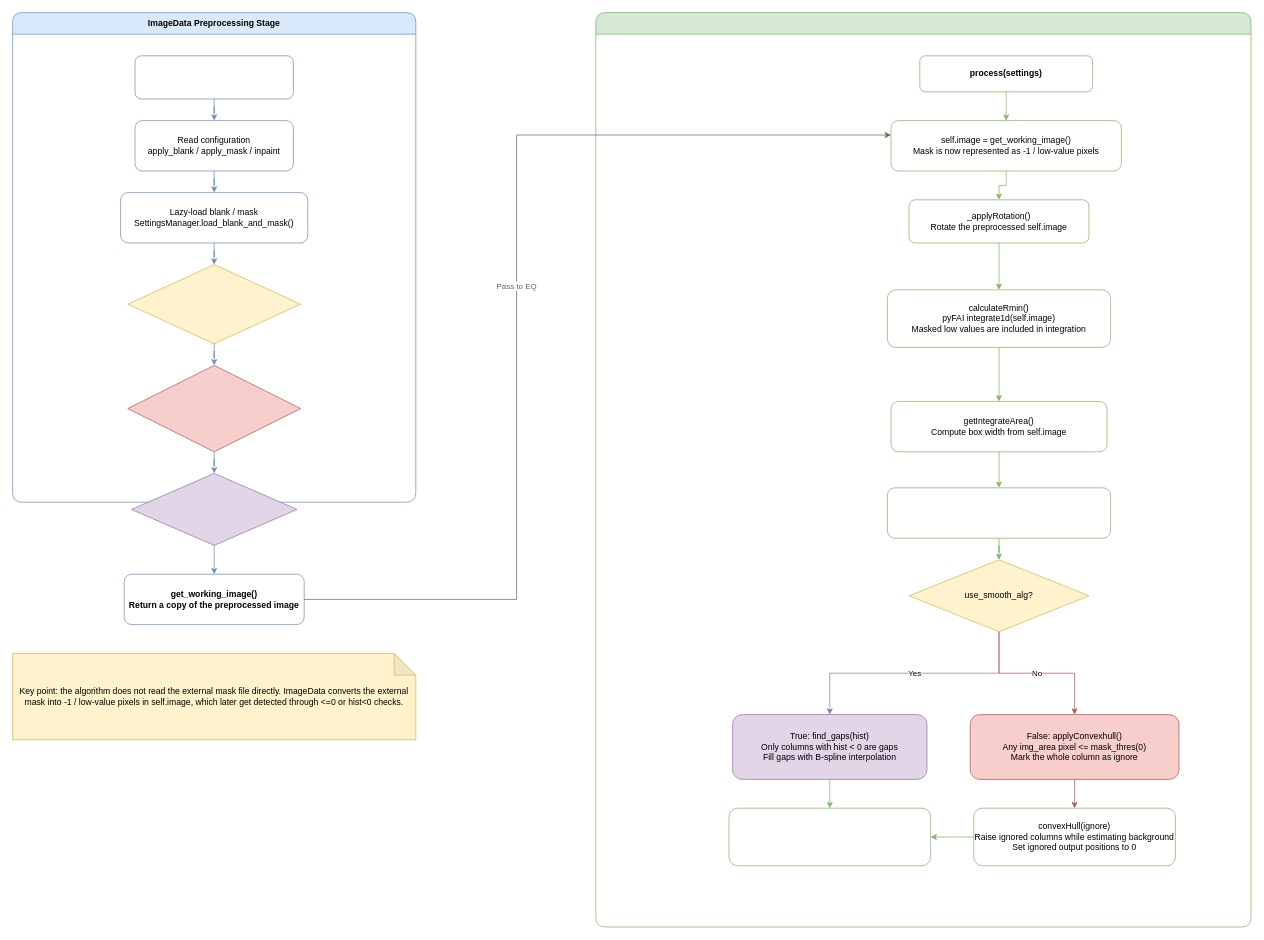
Some shapes in this 1264 by 940 pixel diagram are drawn without their labels. Each missing label, with the box of its shape:
apply_blank? img = img - blank * weight clip to >= 0: (127, 264, 301, 344)
apply_mask? Pixels where mask == 0 become invalid_pixel_threshold, default -1: (127, 365, 301, 452)
EquatorImage Algorithm Stage: (595, 12, 1251, 927)
getHistogram() hist = sum(self.image[int_area, :]): (887, 487, 1111, 538)
getPeaks() / managePeaks() / fitModel() Use the background-subtracted histogram: (728, 807, 931, 866)
inpaint? Fill invalid / masked pixels: (131, 473, 297, 545)
Raw image _raw_img / orig_img: (134, 55, 293, 99)
